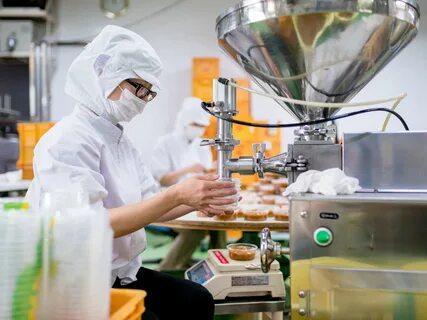hairnet: (62, 12, 174, 102)
mask: (101, 81, 169, 135)
